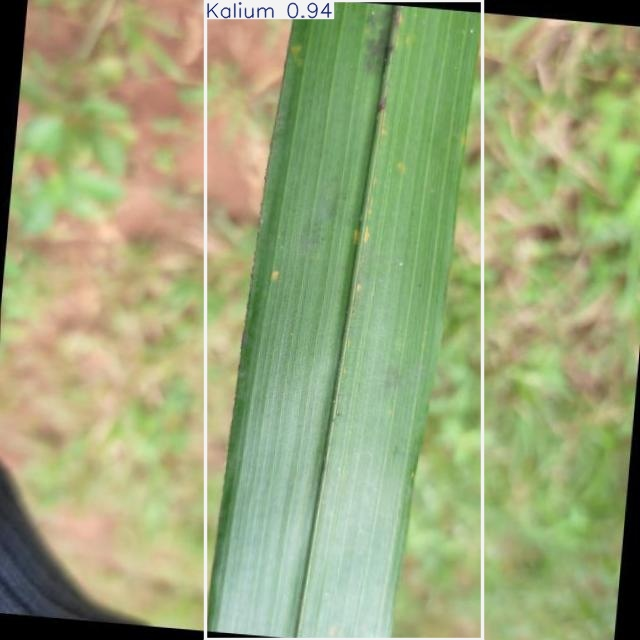Kalium: (206, 0, 482, 640)
